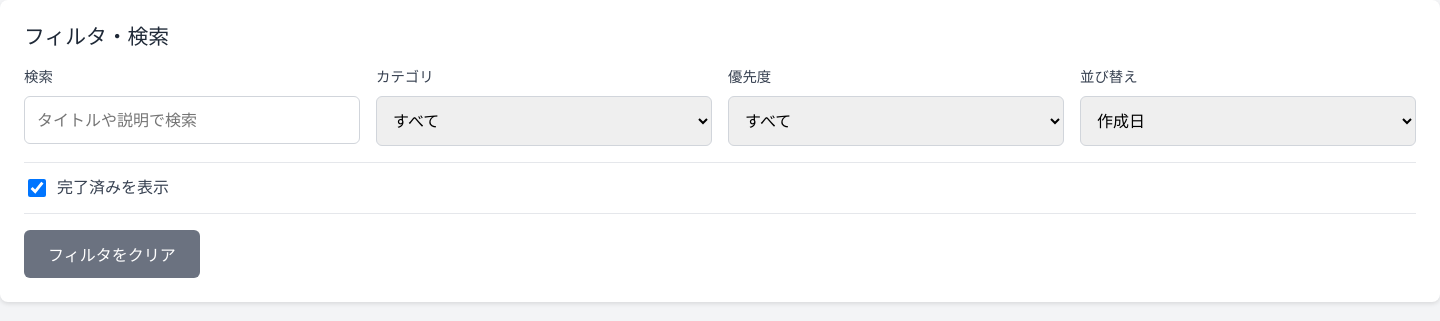
Test: TodoFilter › search functionality › should clear search text when filter is cleared
Type "test" into the field labelled "検索". click: (192, 120)
box: x1=24 y1=96 x2=360 y2=144
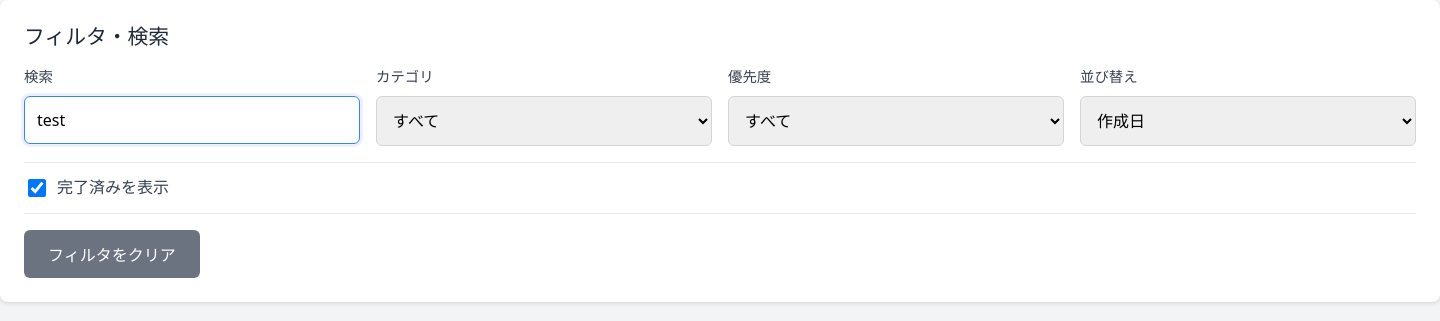
Click the button "フィルタをクリア". click: (112, 254)
box: x1=24 y1=230 x2=200 y2=278
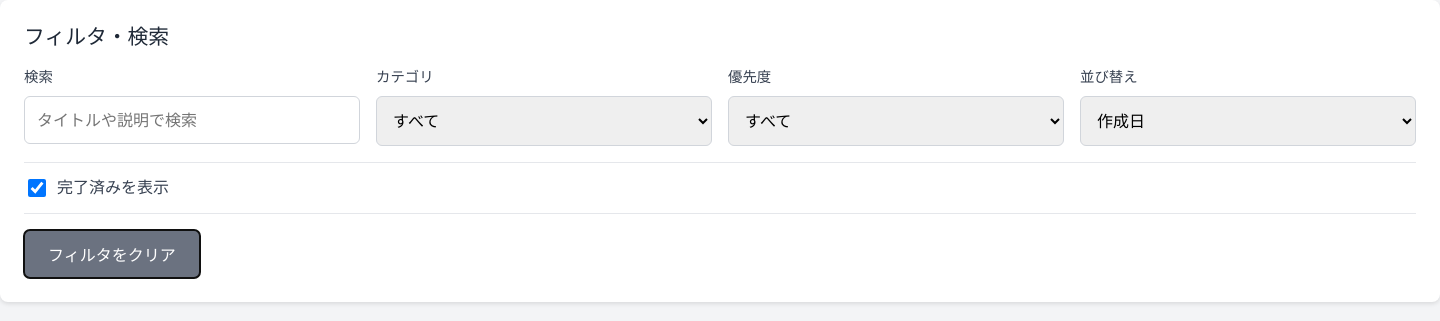
Check: the field labelled "検索" is empty, box x1=24 y1=96 x2=360 y2=144
